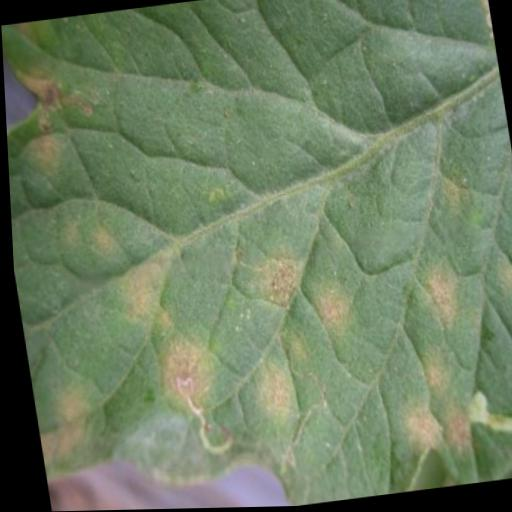Leaf Mold: (0, 0, 512, 512)
Leaf_Miner: (445, 325, 512, 485), (156, 362, 240, 473)
